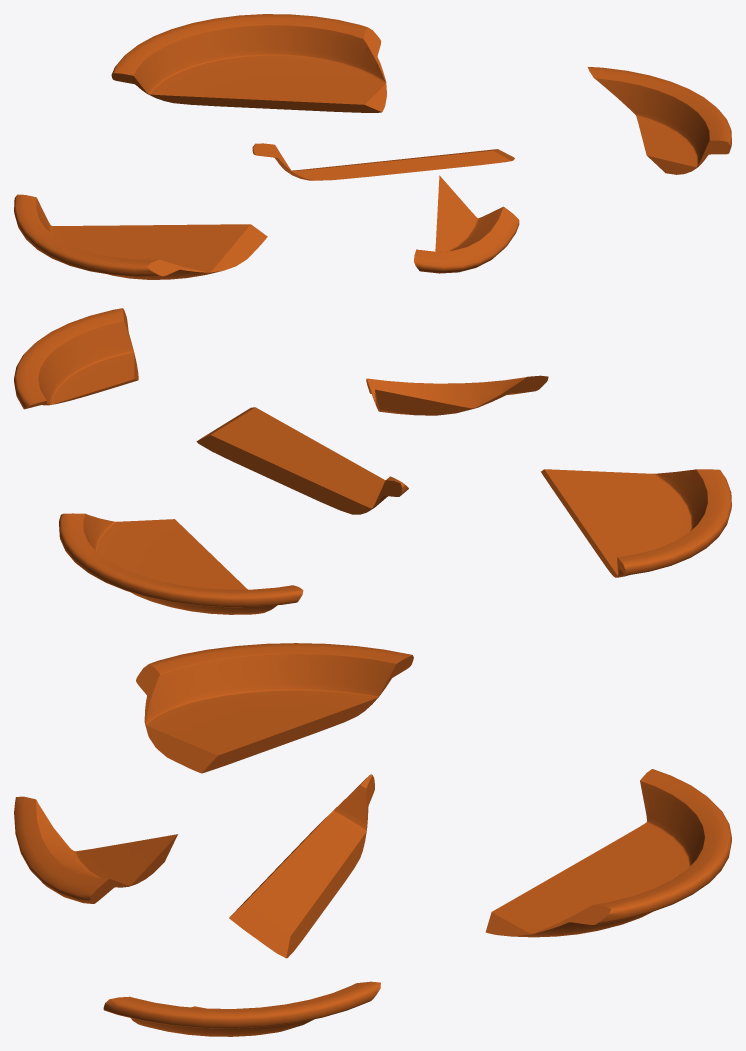
File: BrokenPlate_MESH.fbx
3 views of the same model, one above another, from view 1: azimuth 30°, elevation 25°; view 2: azimuth 150°, elevation 25°; view 3: azimuth 270°, elevation 25° (orthographic). The views are drawn at different scales.
Visible parts, largest first — view 1: BrokenPlate_MESH; view 2: BrokenPlate_MESH; view 3: BrokenPlate_MESH.
Part boxes in pixels (<box>): BrokenPlate_MESH: <box>14,14,731,279</box>; BrokenPlate_MESH: <box>14,308,731,614</box>; BrokenPlate_MESH: <box>14,643,731,1036</box>.
Bounding box in the file's own units: 5.67 × 0.417 × 4.52.
1 material, 1 textured.
